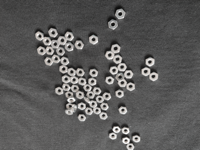nut: (116, 9, 126, 19), (65, 42, 75, 52), (109, 19, 118, 30), (49, 28, 58, 38), (90, 35, 99, 45), (75, 41, 85, 50), (56, 47, 66, 56), (52, 54, 61, 64), (112, 44, 121, 54), (105, 51, 115, 60), (113, 55, 123, 64), (146, 57, 155, 67), (142, 67, 151, 77), (150, 72, 159, 82), (118, 79, 128, 88), (35, 32, 44, 41), (43, 37, 52, 46), (51, 40, 60, 49), (58, 36, 67, 45), (65, 32, 74, 41), (37, 47, 46, 56), (61, 57, 70, 66), (118, 63, 127, 72), (110, 66, 119, 75), (116, 73, 125, 82), (76, 68, 85, 77), (90, 69, 99, 78), (78, 77, 87, 86), (76, 91, 85, 100), (45, 47, 55, 55), (124, 71, 134, 79), (45, 57, 53, 66), (106, 77, 115, 85), (127, 83, 135, 92), (116, 90, 124, 99), (119, 107, 128, 115), (60, 65, 68, 74), (68, 68, 76, 77), (62, 75, 70, 84), (70, 76, 78, 85), (62, 84, 71, 92), (71, 85, 80, 93), (103, 93, 112, 101), (85, 108, 94, 116), (93, 107, 102, 115), (89, 78, 97, 86), (66, 91, 74, 99), (84, 96, 92, 104), (90, 100, 98, 108), (101, 103, 109, 111), (100, 112, 108, 120), (122, 127, 130, 135), (133, 135, 141, 143), (83, 85, 92, 92), (93, 88, 102, 95), (56, 87, 63, 95), (87, 92, 95, 99), (96, 96, 104, 103), (66, 109, 74, 116), (78, 103, 86, 110), (78, 115, 86, 122), (113, 127, 121, 134), (123, 137, 130, 145), (67, 97, 76, 103), (110, 133, 117, 140), (127, 144, 135, 150), (72, 105, 77, 113), (67, 103, 73, 109)
